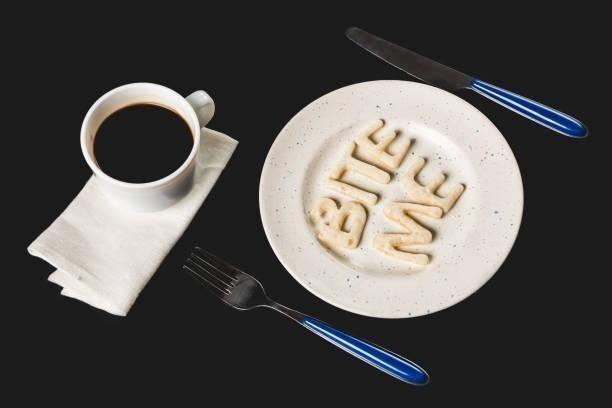cup-handle: (79, 80, 216, 214)
